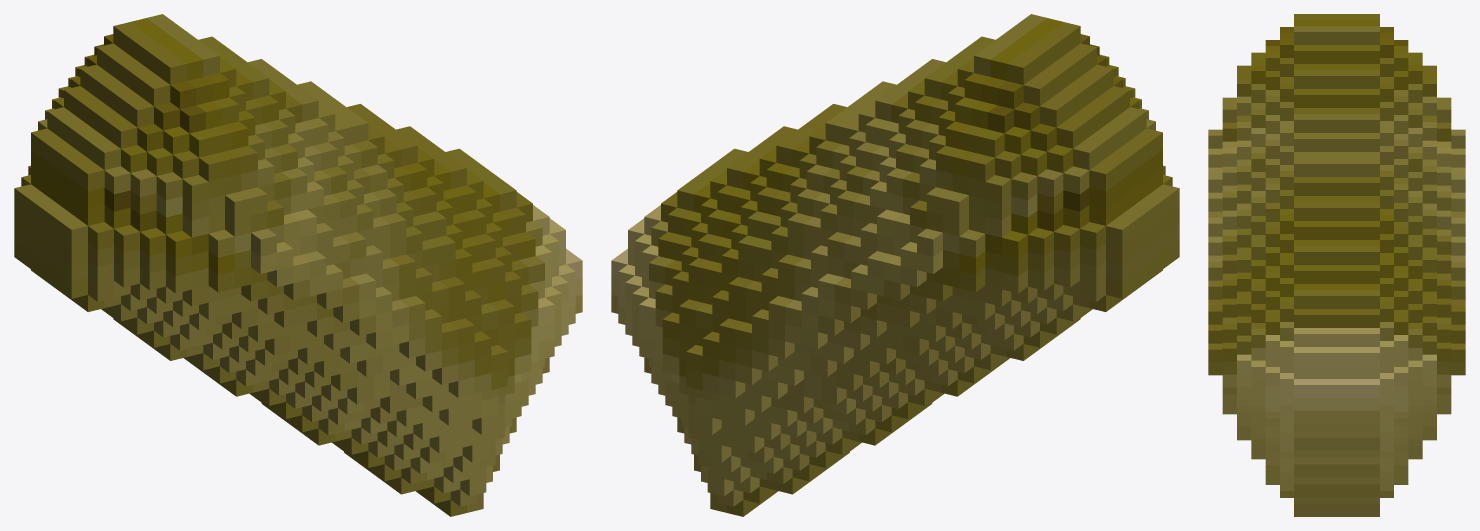
Rendered from bronzebar.glb.
3 renders of one model, left to right at view 1: azimuth 30°, elevation 25°; view 2: azimuth 150°, elevation 25°; view 3: azimuth 270°, elevation 25°, orthographic. The views are drawn at different scales.
Size of the model in its own units: 0.9688 by 0.9375 by 0.5625.
